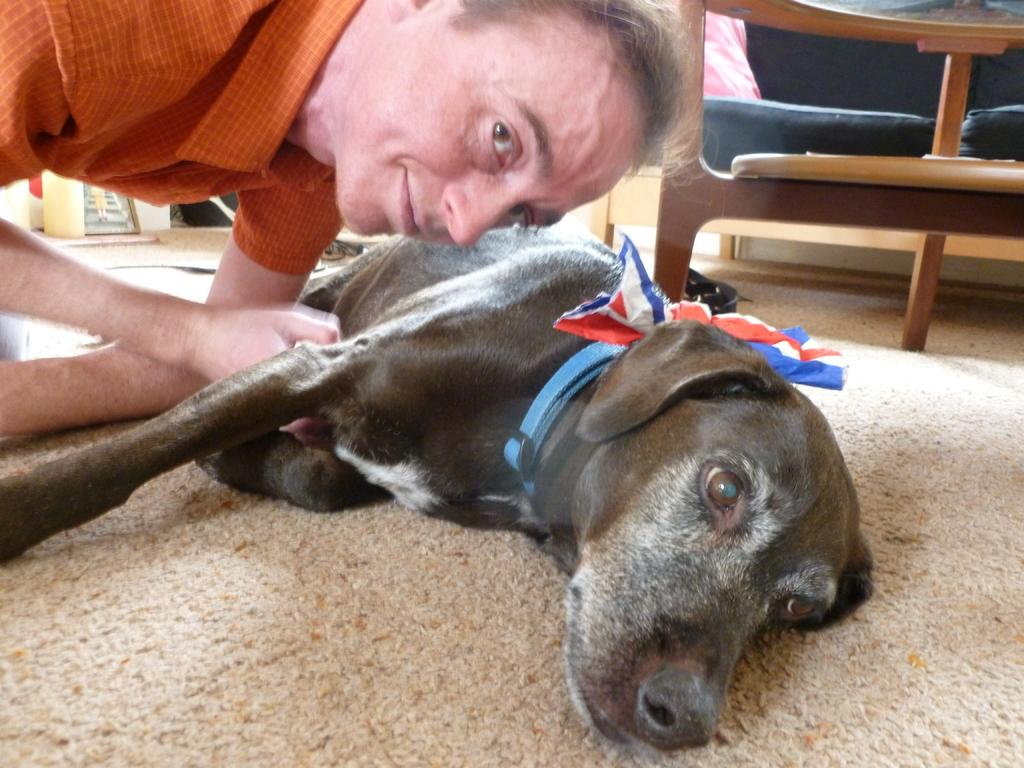Sem Máscara: (338, 0, 647, 252)
